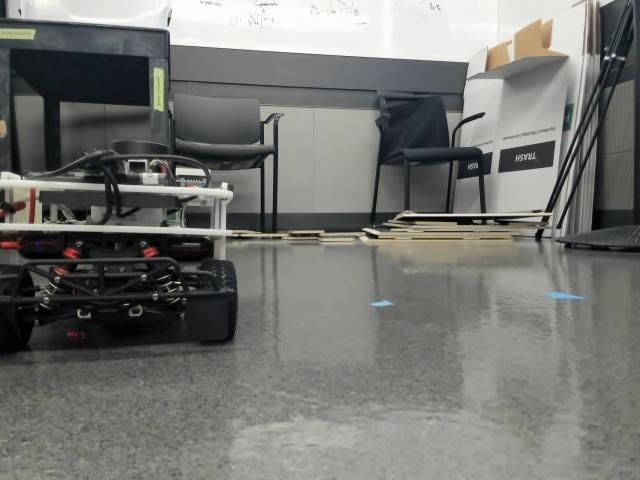Car: (2, 141, 238, 345)
